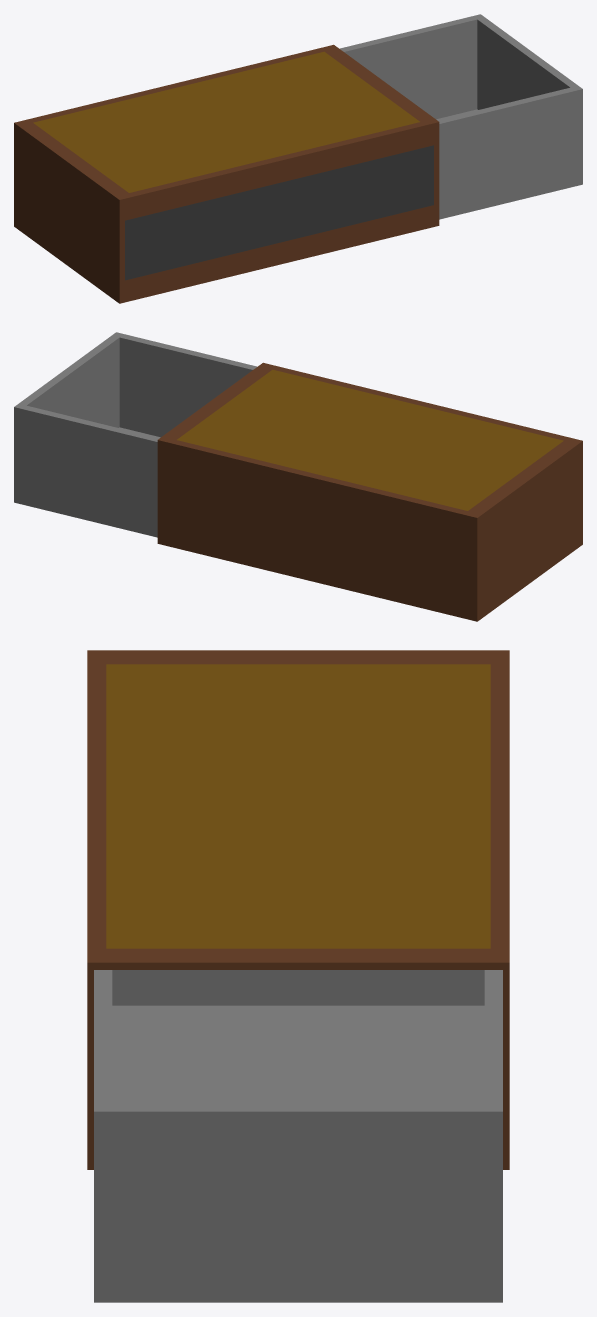
The model's file is matchbox02.obj.
3 renders of one model, top to bottom at view 1: azimuth 30°, elevation 25°; view 2: azimuth 150°, elevation 25°; view 3: azimuth 270°, elevation 25°, orthographic. The views are drawn at different scales.
Parts seen in each view (by area): view 1: Cube; view 2: Cube; view 3: Cube.
Boxes of the visible parts, x1,y1,x2,y2 form: Cube: (14,14,582,303); Cube: (14,332,582,621); Cube: (87,650,509,1302).
Bounding box in the file's own units: 0.1018 × 0.0217 × 0.04.
